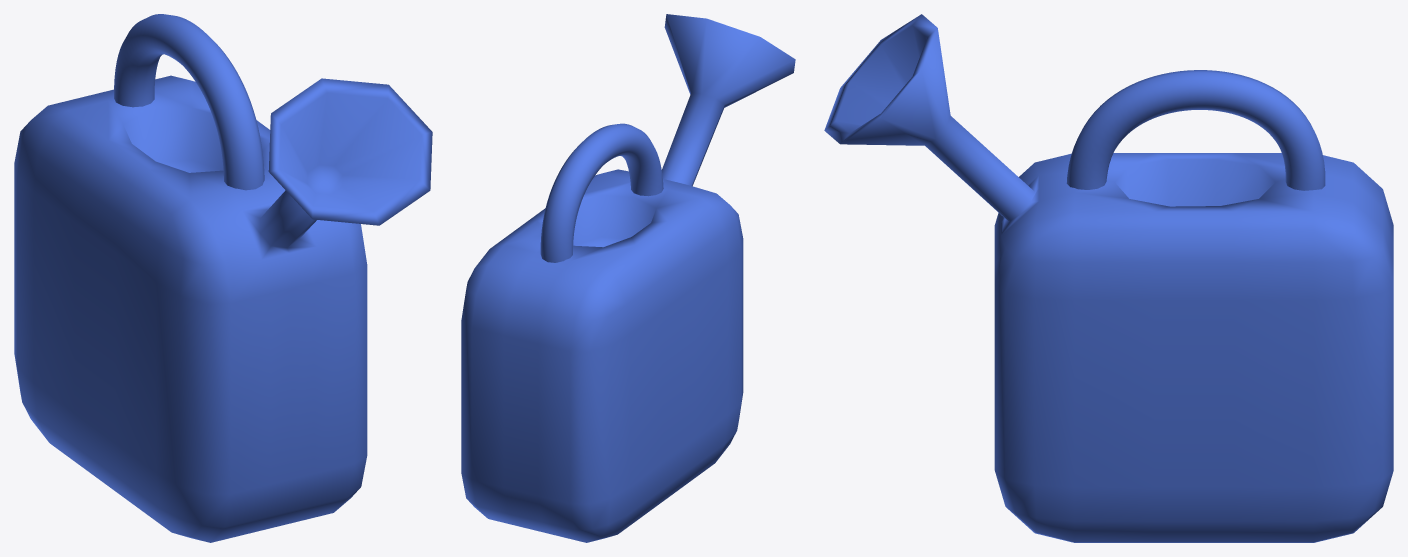
The model's file is watering_can.glb.
3 views of the same model, side by side, from view 1: azimuth 30°, elevation 25°; view 2: azimuth 150°, elevation 25°; view 3: azimuth 270°, elevation 25° (orthographic). The views are drawn at different scales.
Visible parts, largest first — view 1: Plane, NurbsPath; view 2: Plane, NurbsPath; view 3: Plane, NurbsPath.
Part boxes in pixels (bbox=[...]): Plane: bbox=[14, 75, 432, 542]; NurbsPath: bbox=[114, 14, 264, 190]; Plane: bbox=[461, 14, 795, 542]; NurbsPath: bbox=[540, 123, 663, 262]; Plane: bbox=[824, 14, 1393, 542]; NurbsPath: bbox=[1066, 70, 1325, 190].
Size of the model in its own units: 1.09 by 2.69 by 2.85.
